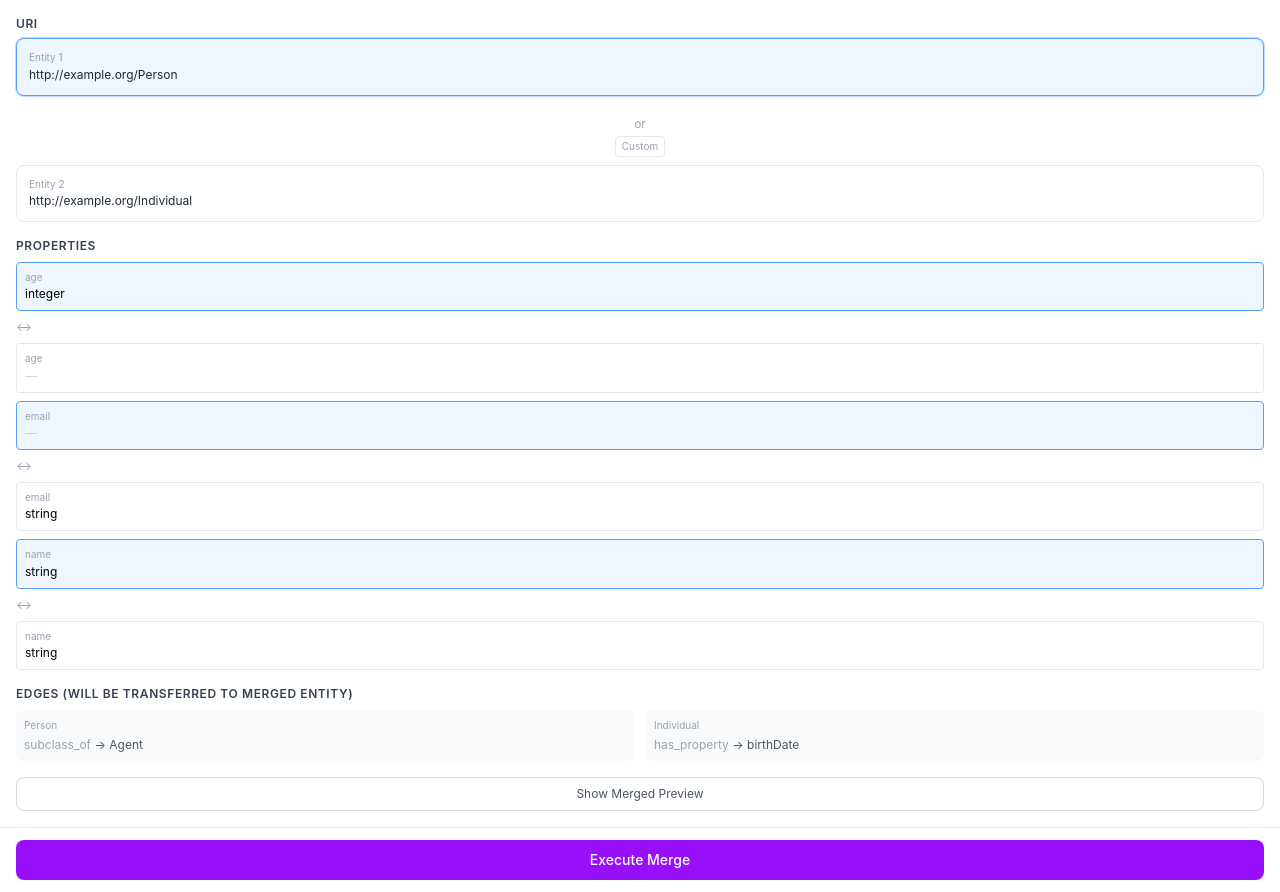
MergeExecutor › shows merge preview when toggled
(page scrolled)
Click the button with test id "toggle-preview-btn".
click(640, 794)  # box [16,777,1264,811]
(page scrolled)
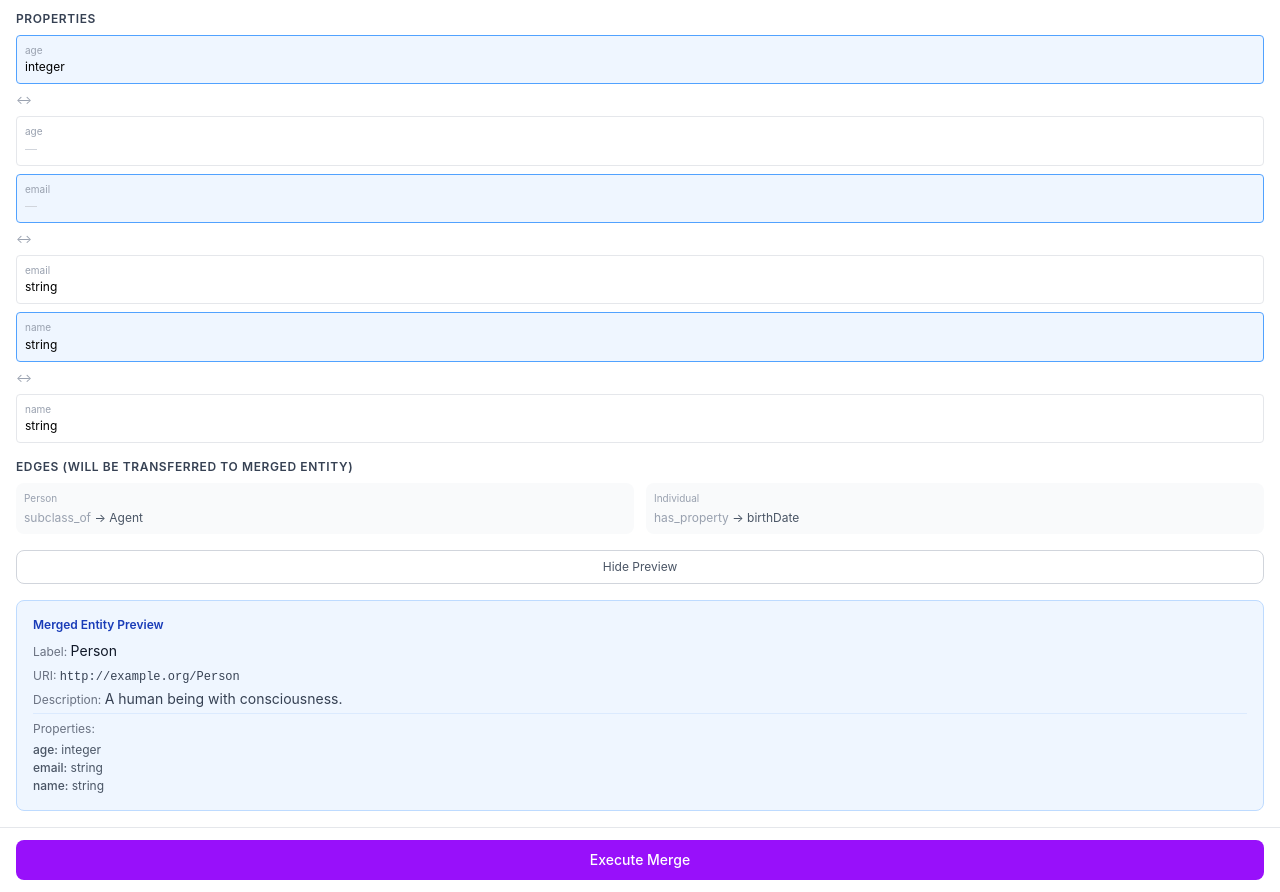
Expected: the element with test id "merge-preview" is shown, [16,600,1264,811]
